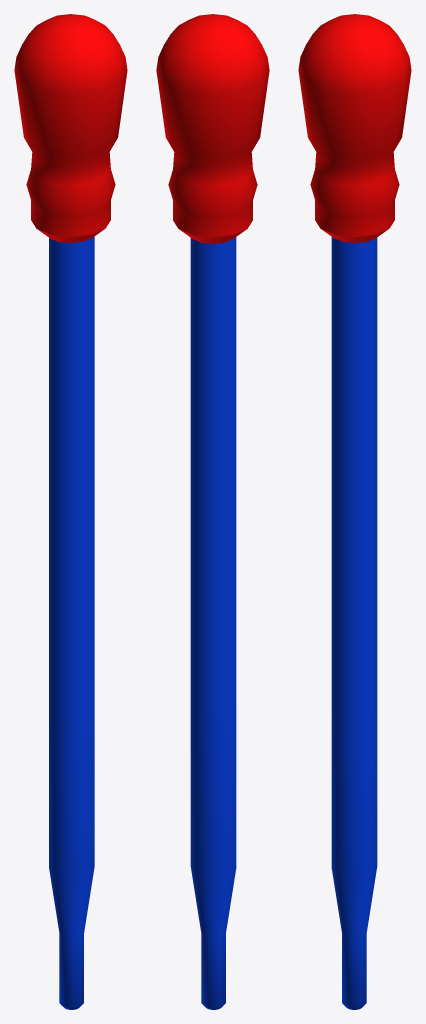
Rendered from morpher2.FBX.
The picture shows the model from 3 angles, left to right: view 1: azimuth 30°, elevation 25°; view 2: azimuth 150°, elevation 25°; view 3: azimuth 330°, elevation 25°; orthographic projection.
Parts seen in each view (by area): view 1: Cylinder025, morpher; view 2: Cylinder025, morpher; view 3: Cylinder025, morpher.
Boxes of the visible parts, bbox=[...] form: Cylinder025: bbox=[49, 236, 94, 1009]; morpher: bbox=[14, 14, 127, 243]; Cylinder025: bbox=[190, 237, 236, 1009]; morpher: bbox=[156, 14, 269, 243]; Cylinder025: bbox=[331, 237, 377, 1009]; morpher: bbox=[298, 14, 411, 243].
Size of the model in its own units: 1.78 by 17.17 by 1.78.
